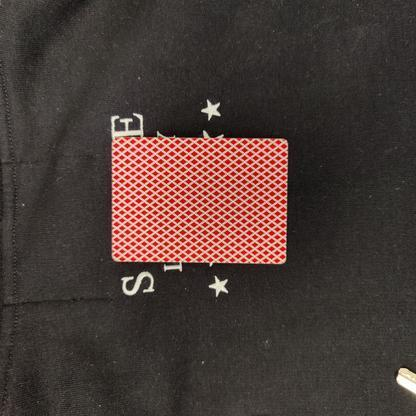card: (99, 126, 299, 273)
